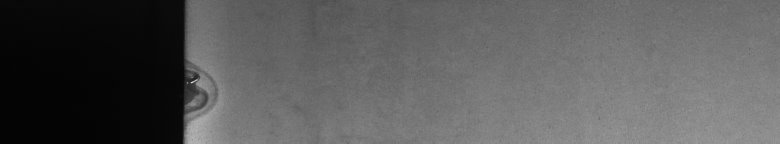hb: (192, 58, 223, 125)
